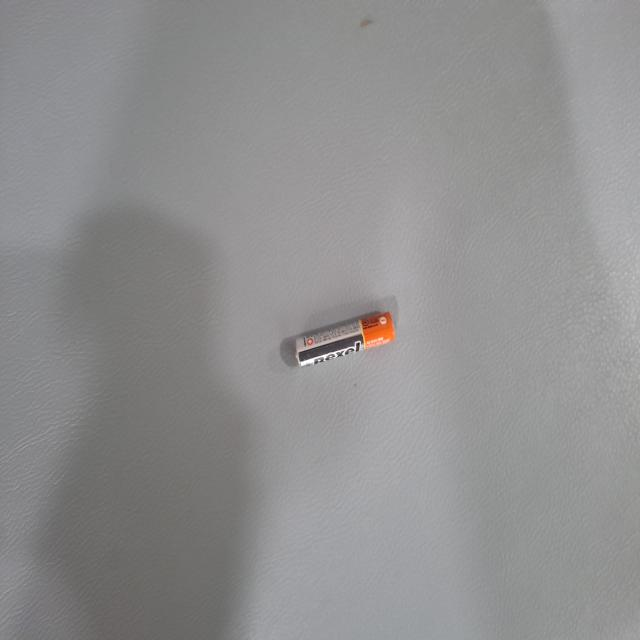AAA: (203, 387, 246, 526)
